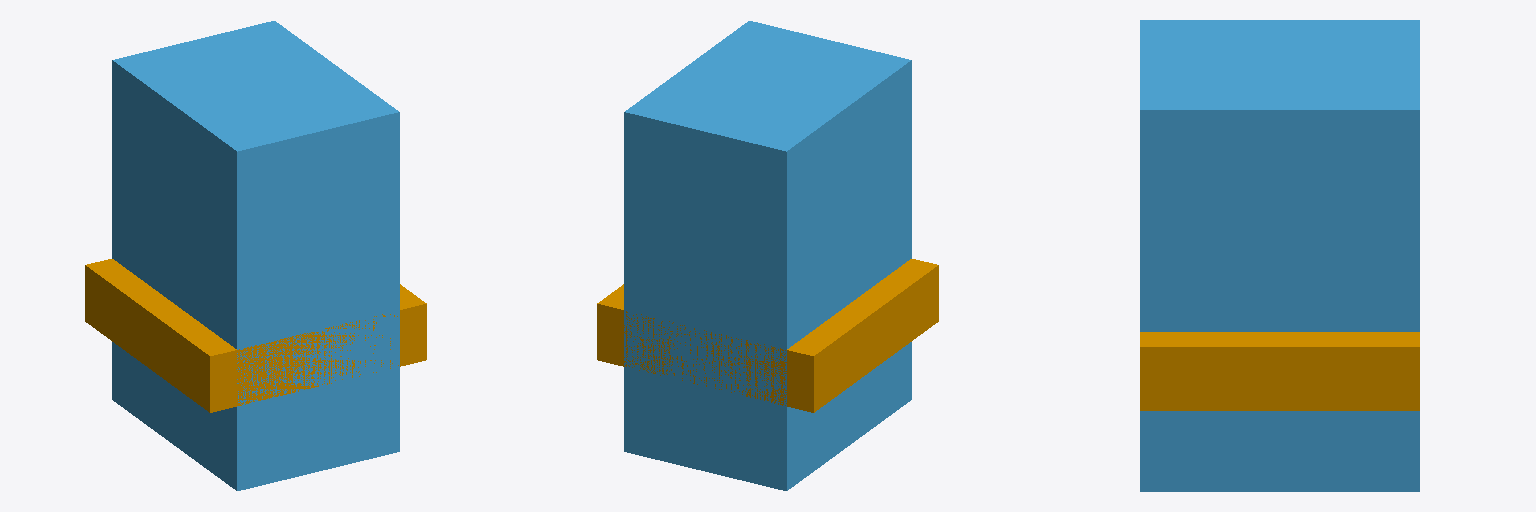
robot.urdf — reachy_2023_minimal:
<?xml version="1.0" ?>
<!-- =================================================================================== -->
<!-- |    This document was autogenerated by xacro from reachy_minimal.urdf.xacro      | -->
<!-- |    EDITING THIS FILE BY HAND IS NOT RECOMMENDED                                 | -->
<!-- =================================================================================== -->
<robot name="reachy_2023_minimal">
  <!-- Base Link -->
  <link name="base_link">
    <visual>
      <geometry>
        <box size="0.2 0.2 0.05"/>
      </geometry>
      <material name="grey"/>
    </visual>
  </link>
  <!-- Torso -->
  <link name="torso">
    <visual>
      <geometry>
        <box size="0.15 0.2 0.3"/>
      </geometry>
      <material name="blue"/>
    </visual>
  </link>
  <joint name="base_joint" type="fixed">
    <parent link="base_link"/>
    <child link="torso"/>
    <origin rpy="0 0 0" xyz="0 0 0.05"/>
  </joint>
  <!-- Right Arm -->
  <link name="link_r1"/>
  <joint name="joint_r1" type="revolute">
    <parent link="torso"/>
    <child link="link_r1"/>
    <origin rpy="0 0 0" xyz="0.05 -0.1 0.25"/>
    <axis xyz="0 0 1"/>
    <limit effort="10" lower="-1.57" upper="1.57" velocity="1.0"/>
  </joint>
  <!-- Left Arm -->
  <link name="link_l1"/>
  <joint name="joint_l1" type="revolute">
    <parent link="torso"/>
    <child link="link_l1"/>
    <origin rpy="0 0 0" xyz="0.05 0.1 0.25"/>
    <axis xyz="0 0 1"/>
    <limit effort="10" lower="-1.57" upper="1.57" velocity="1.0"/>
  </joint>
  <!-- Head -->
  <link name="head"/>
  <joint name="head_pan" type="revolute">
    <parent link="torso"/>
    <child link="head"/>
    <origin rpy="0 0 0" xyz="0 0 0.3"/>
    <axis xyz="0 0 1"/>
    <limit effort="5" lower="-1.57" upper="1.57" velocity="1.0"/>
  </joint>
</robot>

--- Render facts (derived) ---
3 views of the same robot in one strip: view 1: azimuth 30°, elevation 25°; view 2: azimuth 150°, elevation 25°; view 3: azimuth 270°, elevation 25° (orthographic).
Model reachy_2023_minimal with 5 links and 4 joints (3 revolute, 1 fixed), rooted at base_link, posed all joints at 0.
Links seen in each view (by area): view 1: torso, base_link; view 2: torso, base_link; view 3: torso, base_link.
Link boxes in pixels (x1,y1,x2,y2): torso: [112, 21, 399, 490]; base_link: [85, 259, 426, 412]; torso: [624, 21, 911, 490]; base_link: [597, 259, 938, 412]; torso: [1140, 20, 1419, 491]; base_link: [1140, 332, 1419, 410].
Size in the robot's own frame: 0.2 by 0.2 by 0.3 metres.
Geometry: primitives only (box / cylinder / sphere), no mesh files.
